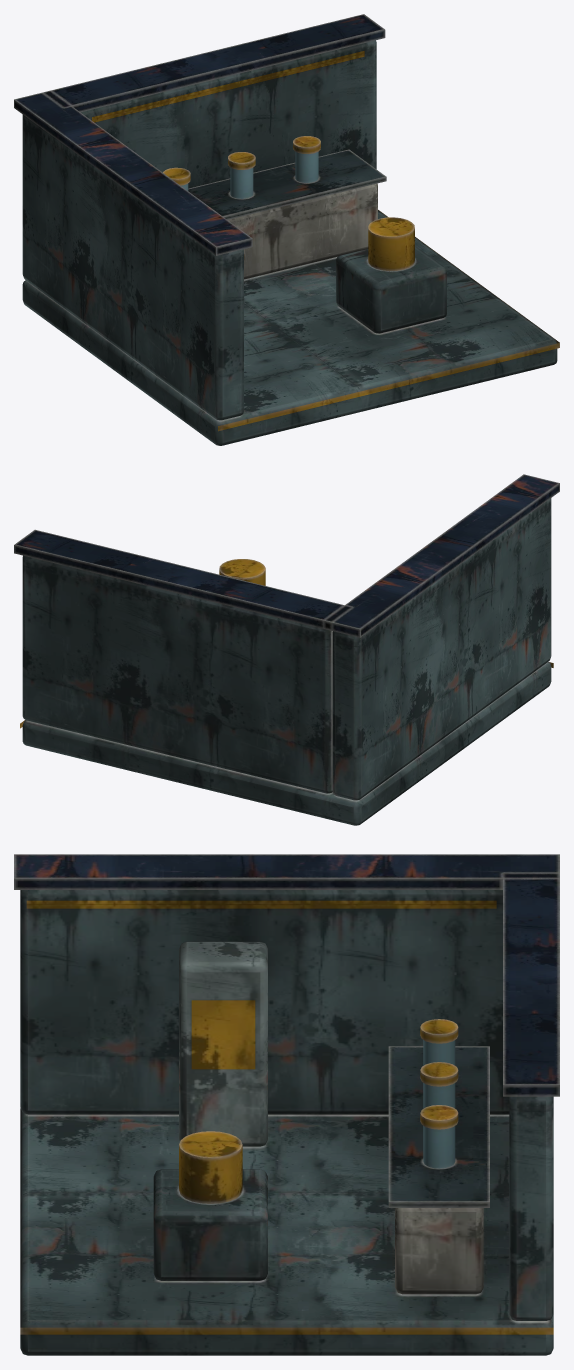
File: engineering_lab.glb
3 views of the same model, one above another, from view 1: azimuth 30°, elevation 25°; view 2: azimuth 150°, elevation 25°; view 3: azimuth 270°, elevation 25° (orthographic). The views are drawn at different scales.
Parts seen in each view (by area): view 1: te_engineering_lab; view 2: te_engineering_lab; view 3: te_engineering_lab.
Part boxes in pixels (left/top/right/bottom): te_engineering_lab: left=14, top=14, right=559, bottom=445; te_engineering_lab: left=14, top=474, right=559, bottom=825; te_engineering_lab: left=14, top=854, right=559, bottom=1355.
Bounding box in the file's own units: 0.86 × 0.48 × 0.86.
1 material, 1 textured.
